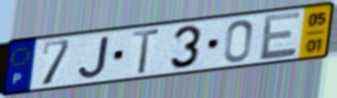0: (222, 18, 255, 64)
3: (167, 23, 206, 71)
7: (41, 38, 72, 87)
E: (258, 9, 303, 63)
J: (76, 34, 112, 80)
T: (130, 27, 163, 76)
